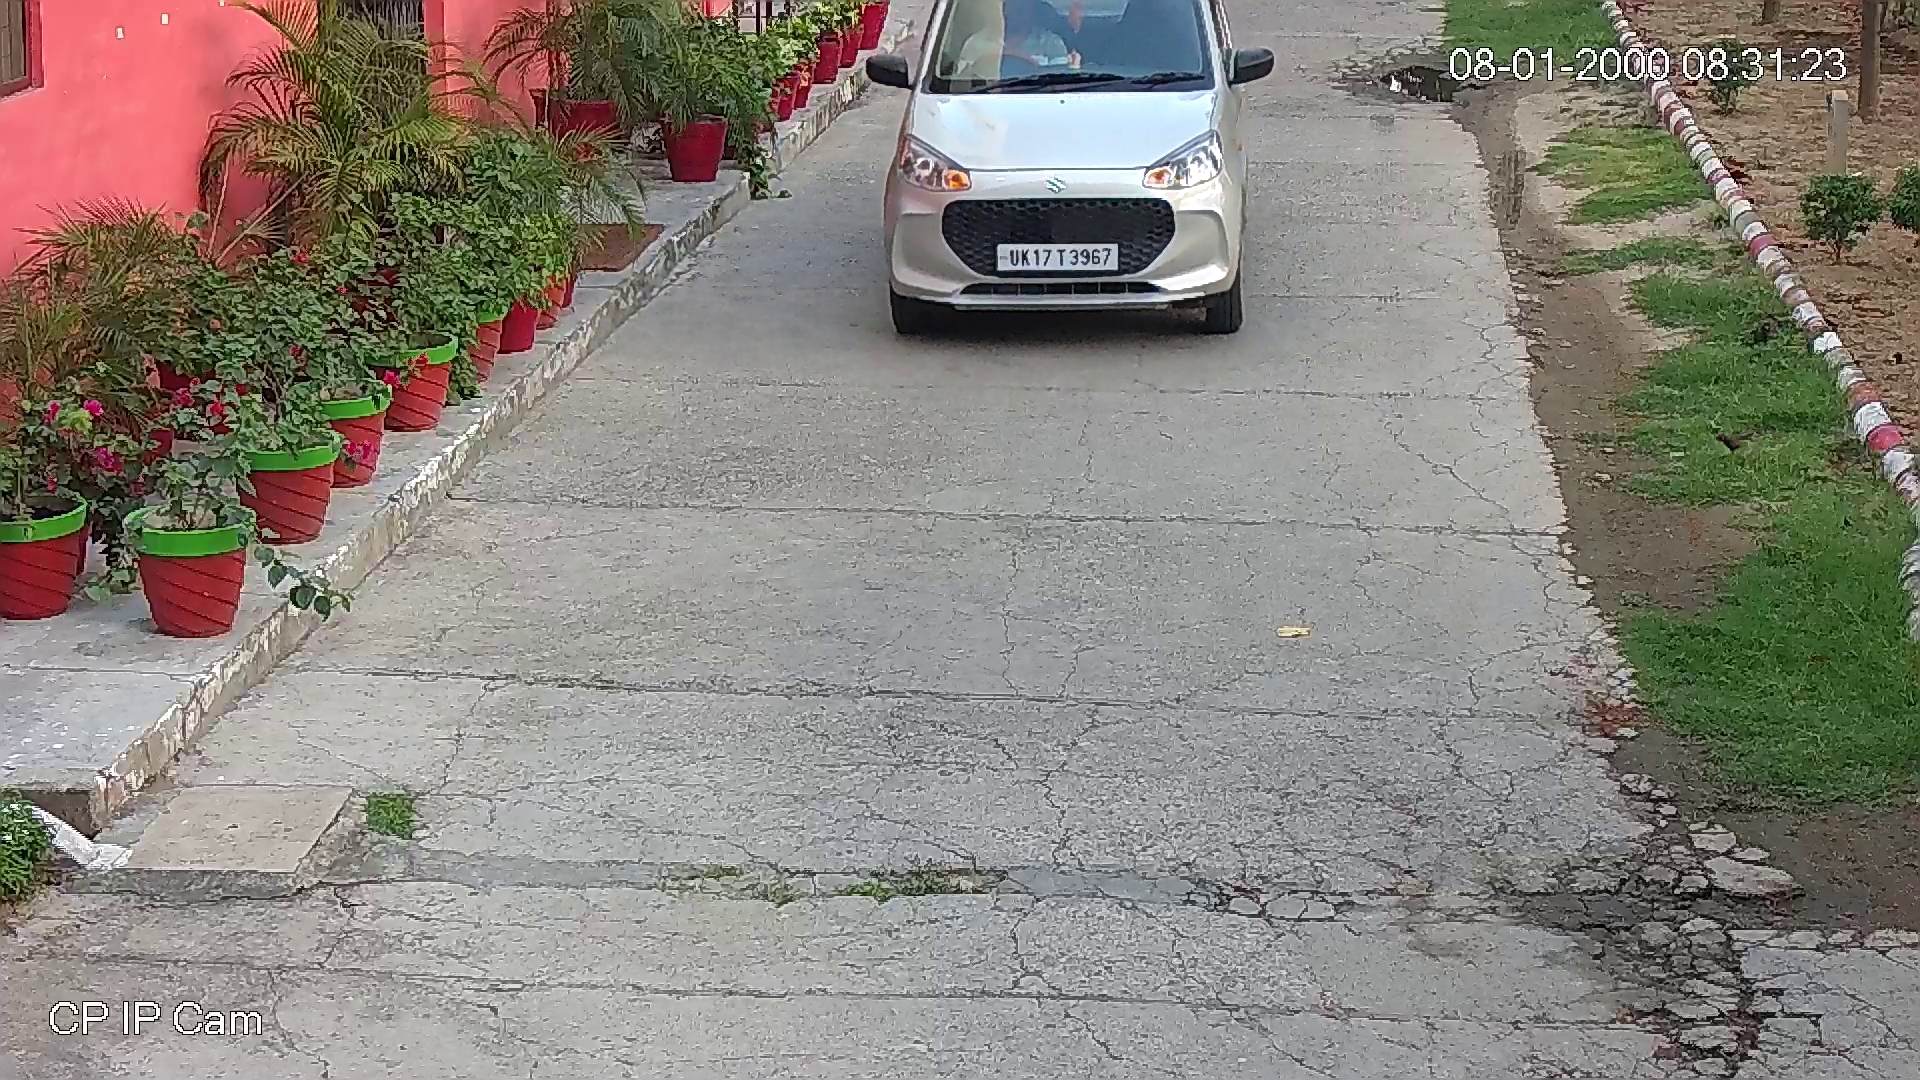plate: (994, 238, 1121, 278)
